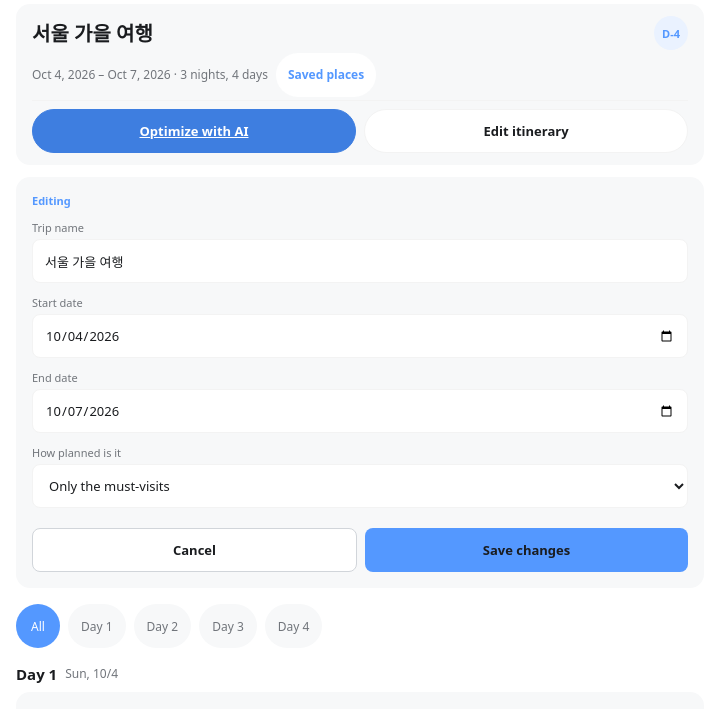
FE-306-T1 the preview advises and never blocks › restores the dates when the undo is pressed
Check: the field labelled "Trip name" is shown, box [32,239,688,283]
In the date field labelled "Start date": (360, 336) [32,314,688,358], type "2026-10-05"
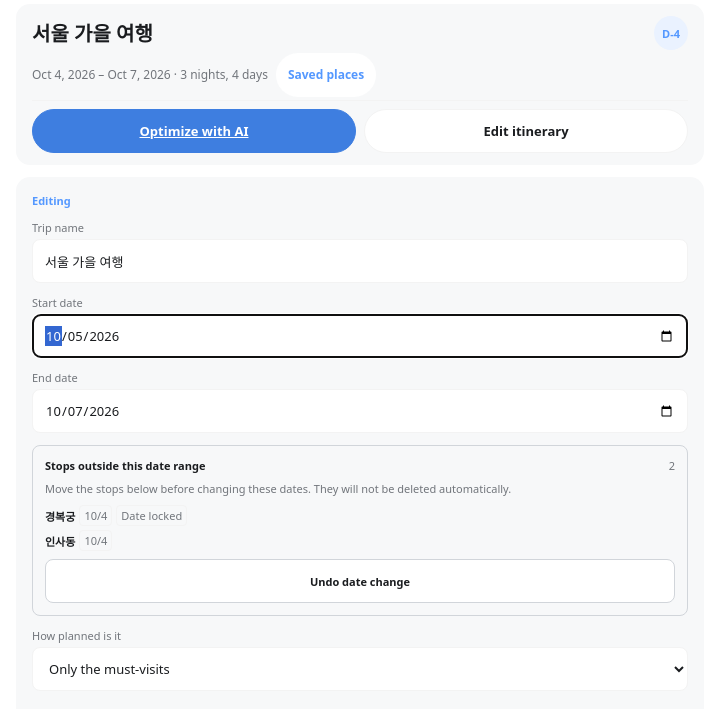
Check: the text "Stops outside this date range" is shown, box [45,458,205,473]
Click the button "Undo date change": (360, 581) [45,559,675,603]
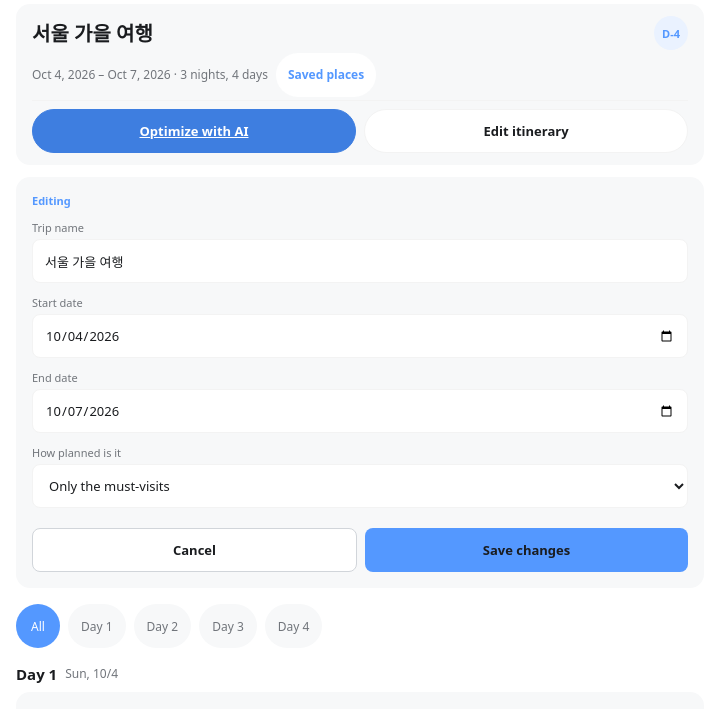
Check: the date field labelled "Start date" holds "2026-10-04", box [32,314,688,358]
Check: the text "Stops outside this date range" is gone
